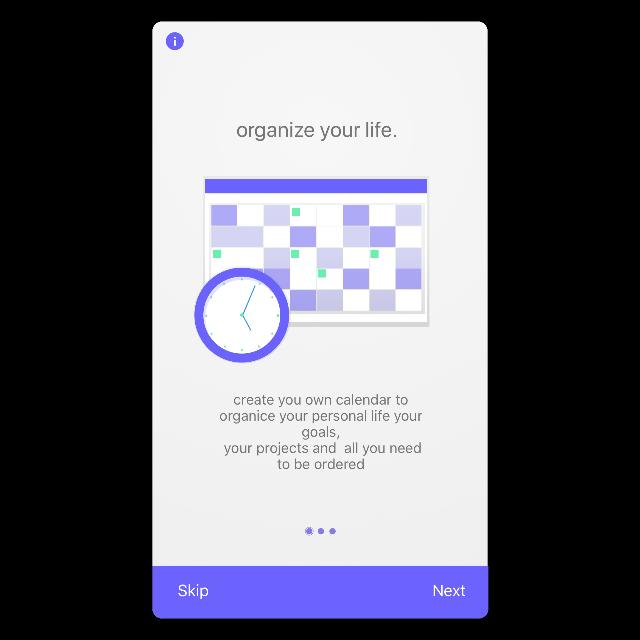icon: (166, 32, 184, 50)
image: (194, 175, 430, 362)
pageindicator: (305, 526, 337, 536)
text: (221, 394, 424, 470), (238, 122, 396, 142), (179, 584, 209, 600), (434, 585, 466, 597)
